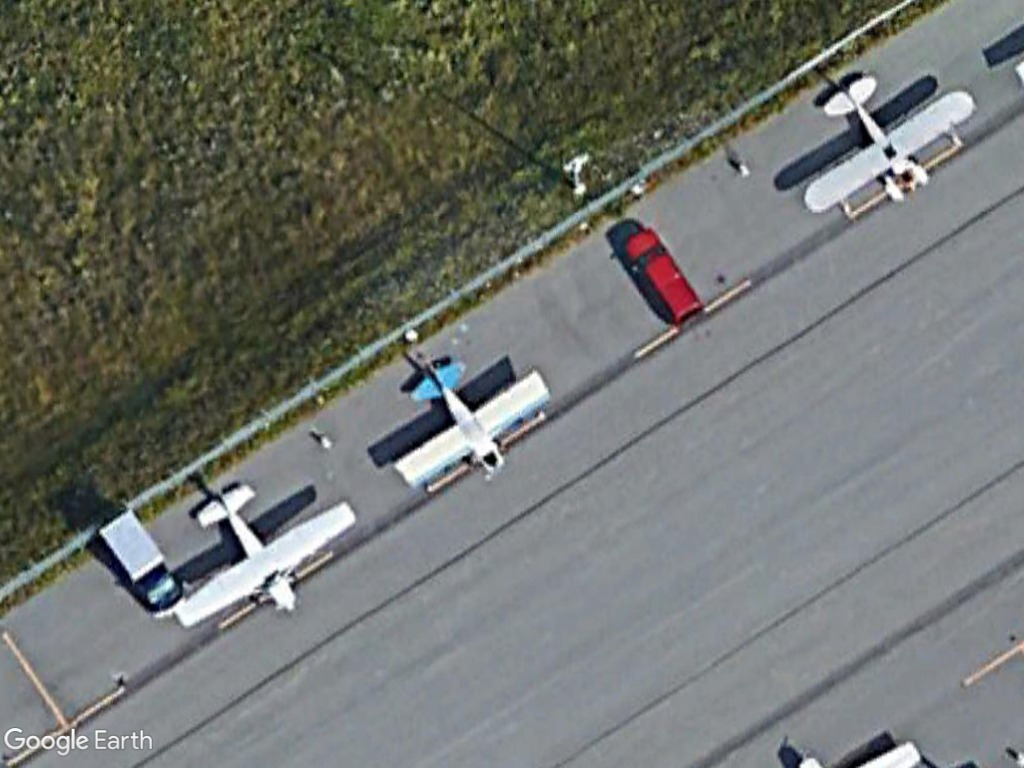trainer: (793, 68, 977, 236), (164, 479, 360, 634), (393, 354, 554, 501)
truck: (95, 507, 190, 626)
van: (618, 225, 707, 333)
